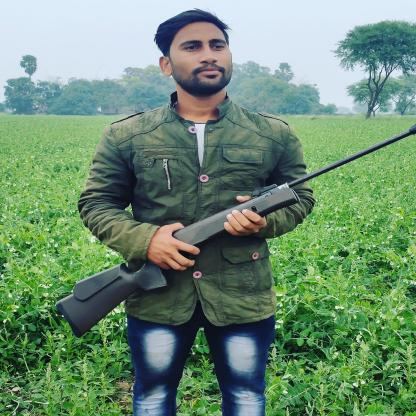rifle: (52, 124, 416, 341)
